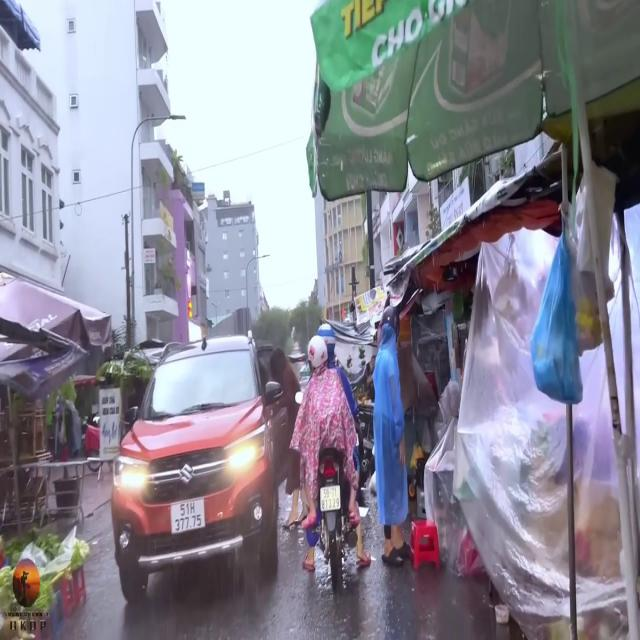bien_trang: (168, 495, 207, 532), (318, 484, 342, 514)
